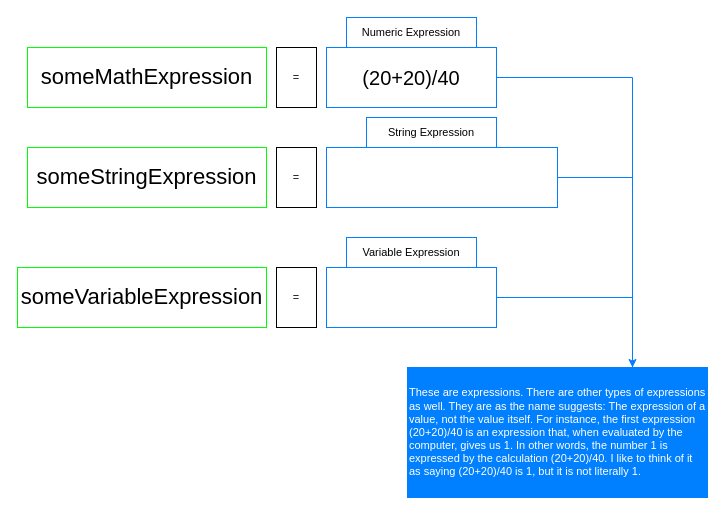
Some shapes in this 725 by 515 pixel diagram are drawn without their labels. The centre of each missing label's shape, as x and y in pixels:
"We are " + "still learning": pixel 442 177
a+b: pixel 411 297
